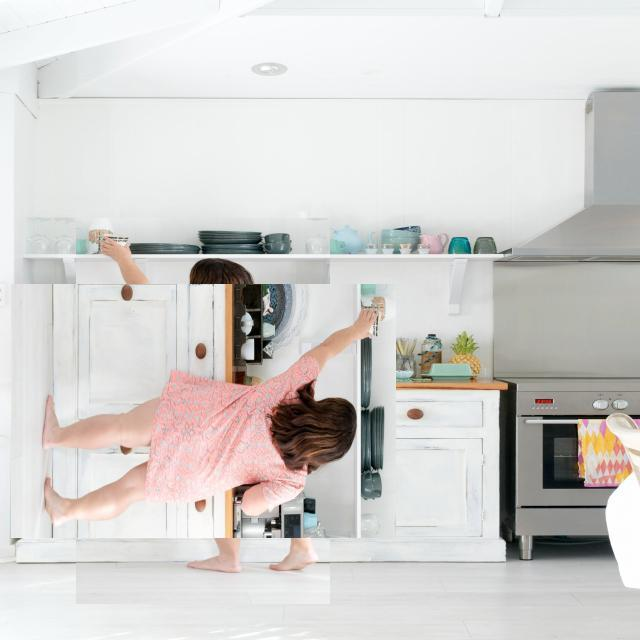NotFall: (39, 314, 507, 540)
